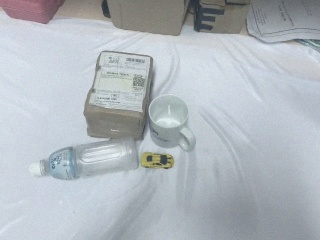bottle: (29, 138, 141, 181)
box: (84, 49, 153, 140), (103, 1, 188, 36), (191, 1, 252, 35)
cup: (146, 93, 197, 152)
toy_car: (140, 152, 175, 170)
